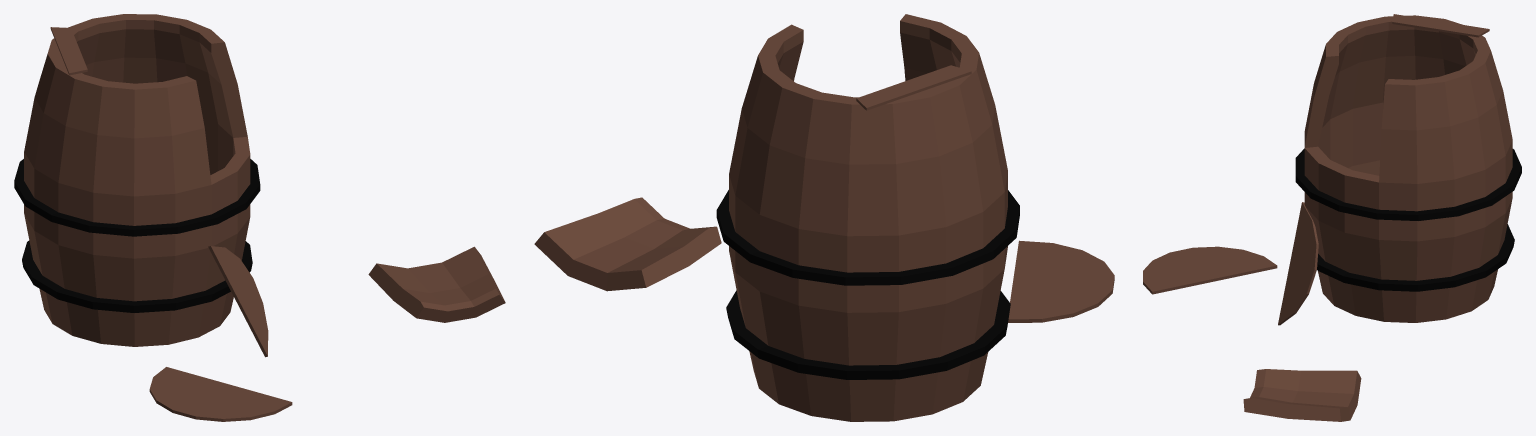
The model's file is tonneau_damage.fbx.
The picture shows the model from 3 angles, left to right: view 1: azimuth 30°, elevation 25°; view 2: azimuth 150°, elevation 25°; view 3: azimuth 270°, elevation 25°; orthographic projection. The views are drawn at different scales.
Visible parts, largest first — view 1: Cylinder.004; view 2: Cylinder.004; view 3: Cylinder.004.
Boxes of the visible parts, x1=… form: Cylinder.004: x1=14, y1=14, x2=505, y2=421; Cylinder.004: x1=534, y1=14, x2=1114, y2=421; Cylinder.004: x1=1143, y1=14, x2=1521, y2=421.
Bounding box in the file's own units: 690 × 433 × 592.
